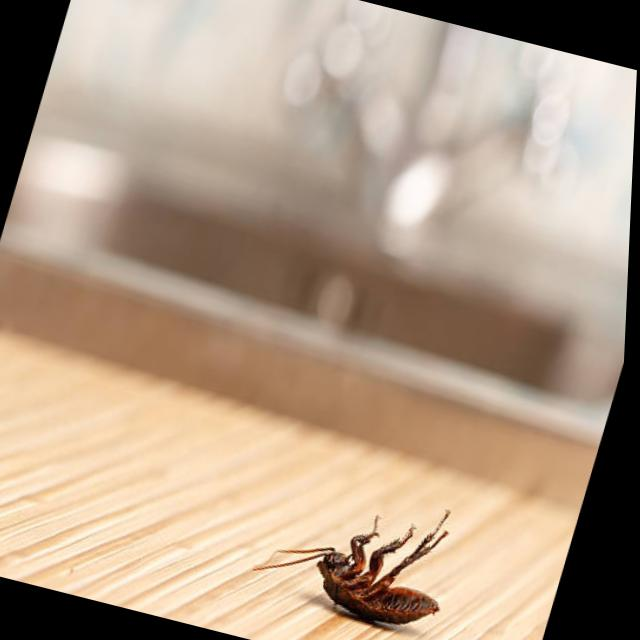Cockroach: (245, 453, 488, 640)
